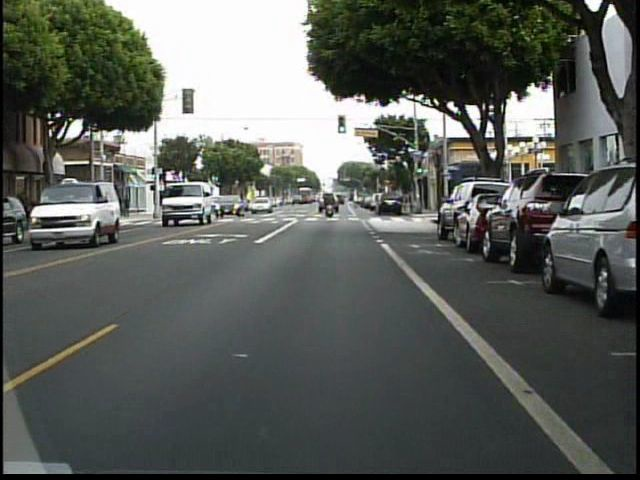person: (322, 190, 339, 220)
